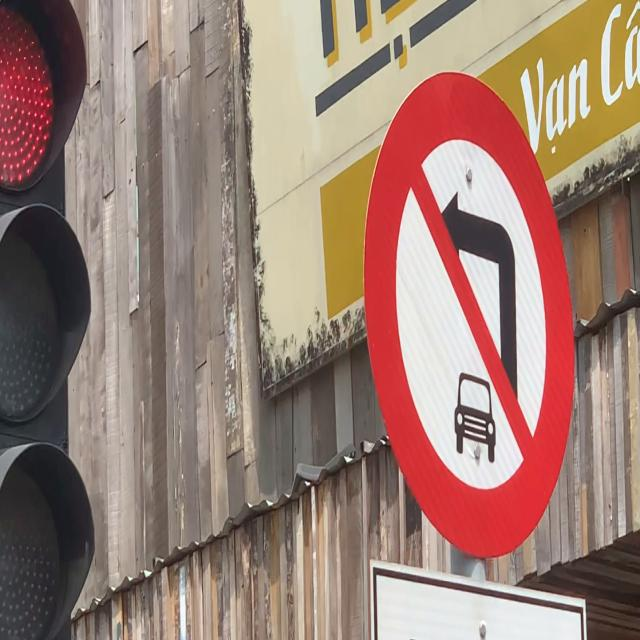Cam re trai: (361, 69, 577, 561)
